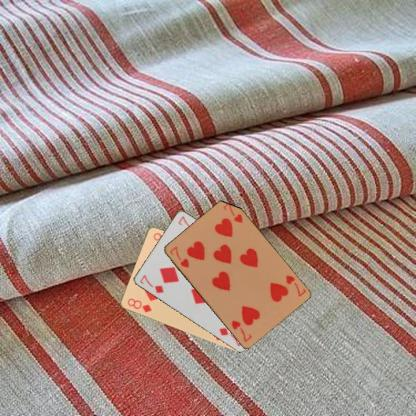7d: (137, 272, 165, 295)
7h: (282, 272, 307, 298), (167, 244, 190, 268)
8d: (125, 296, 153, 314)
